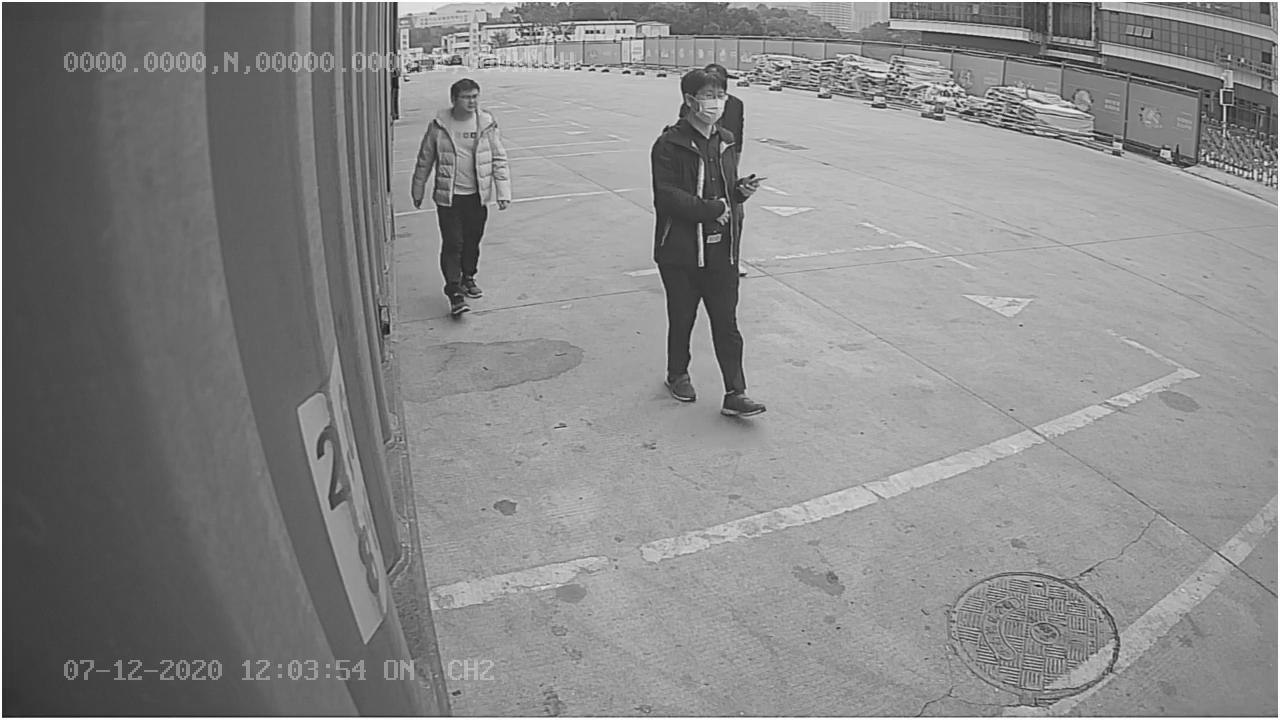person: (411, 73, 516, 319)
